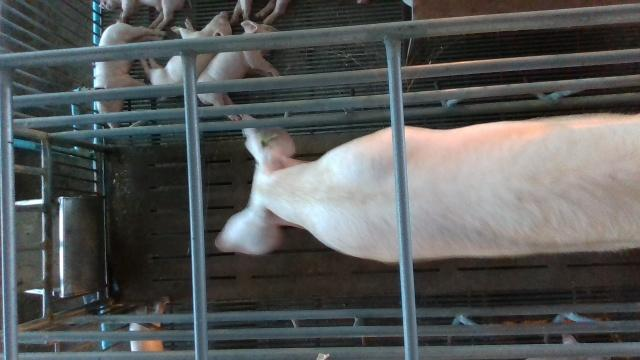piglet: (195, 20, 281, 120), (93, 24, 163, 128), (141, 10, 233, 85), (99, 0, 195, 32), (131, 295, 171, 351)
sow-stand: (216, 114, 640, 263)
